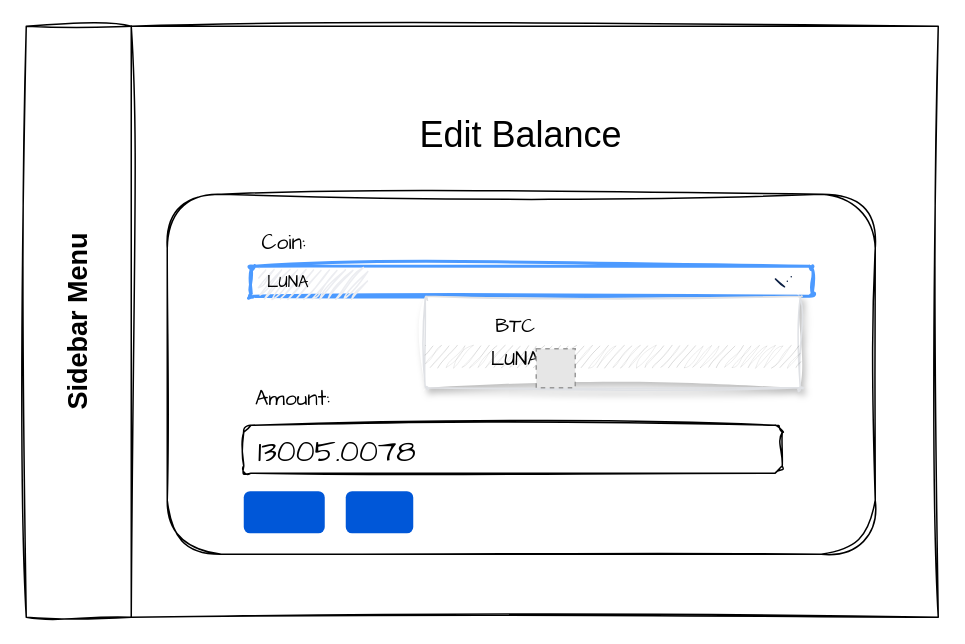
This 965x644 diagram has some shape labels left out. Grey dashed boxes stand in for pictures. Here are the shapes that lost their labels. From the top down, the centre of each, then its label:
point (283, 511): Cancel
point (378, 511): Save
